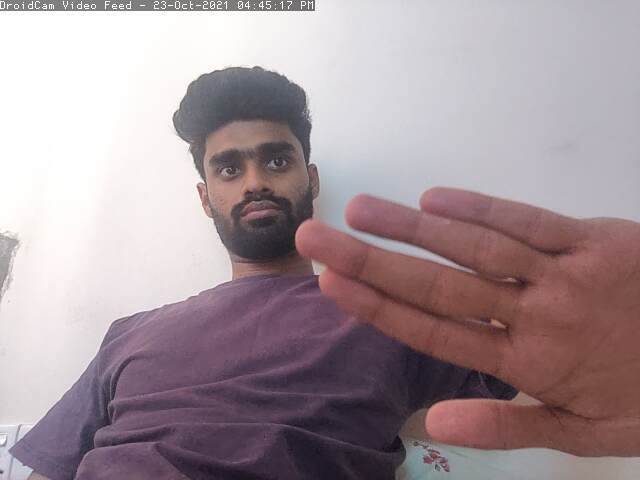Stop: (342, 145, 640, 443)
